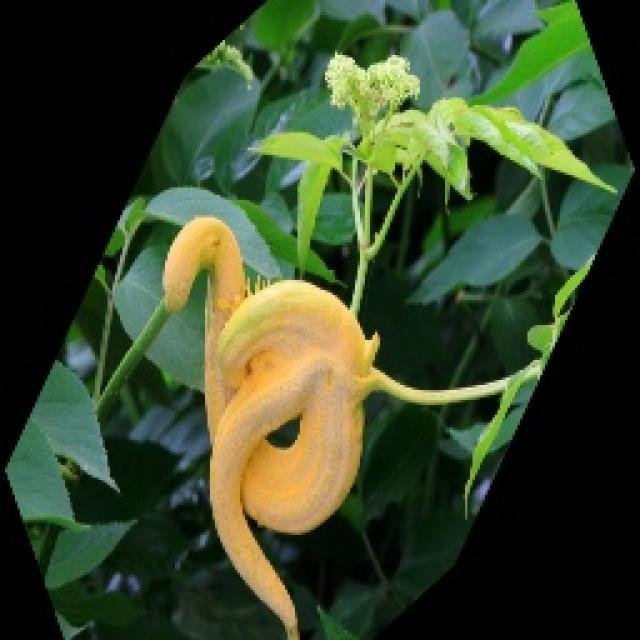Elderberry_rust: (155, 212, 525, 638)
